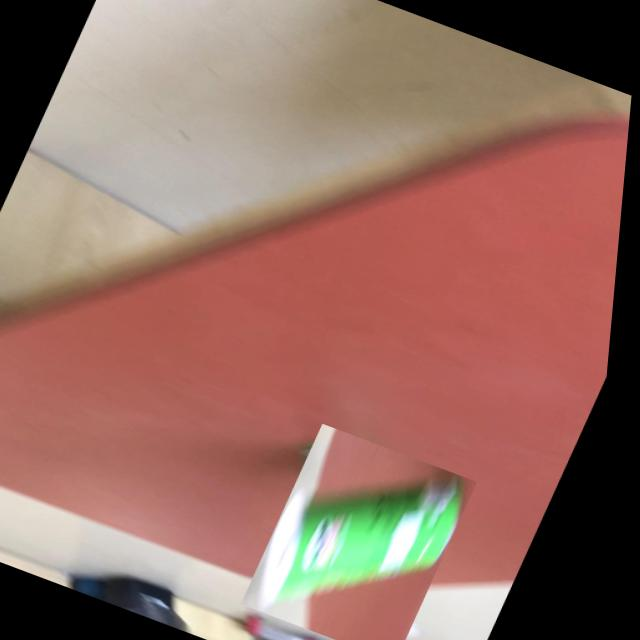a pringles: (246, 426, 493, 640)
